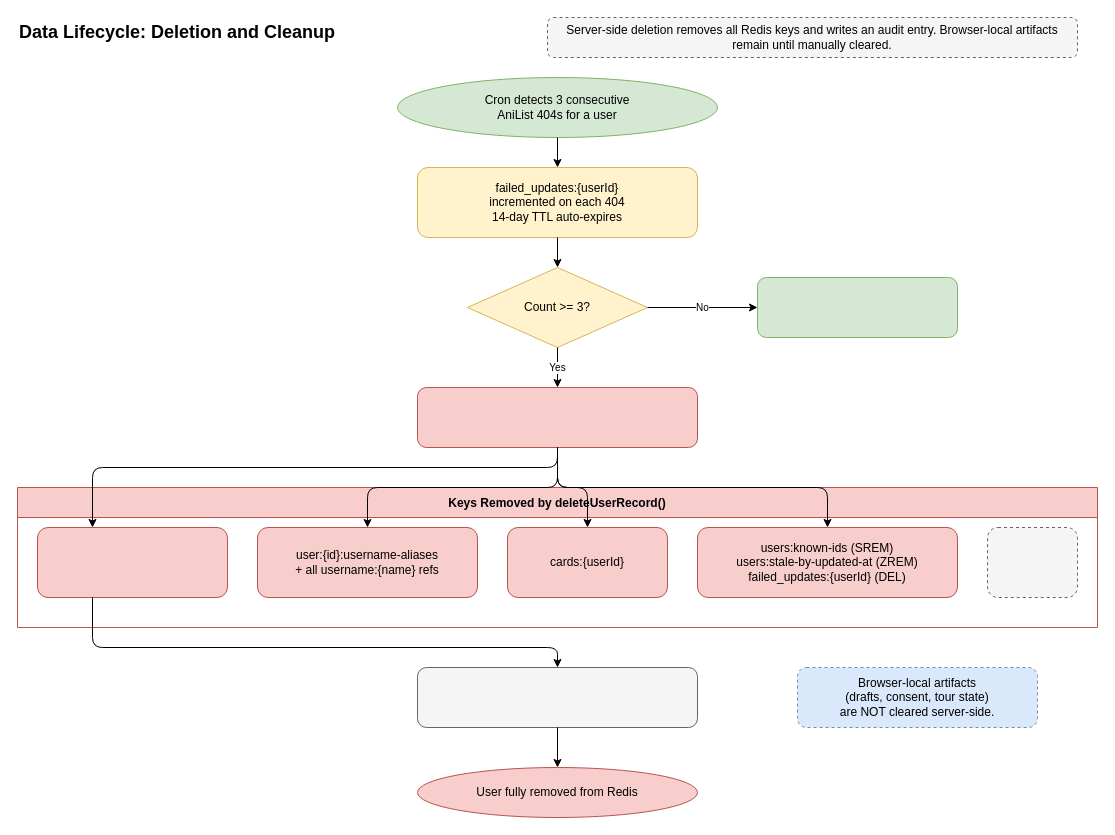
This 1115x835 diagram has some shape labels left out. Each missing label, with the box of its shape:
All split parts user:{id}:{part} user:{id}:commit: (36, 526, 228, 598)
deleteUserRecord() triggerSource: cron_cleanup_404: (416, 386, 698, 448)
Keep user counter expires after 14d: (756, 276, 958, 338)
Legacy user:{id} blob (if still present): (986, 526, 1078, 598)
Lifecycle audit entry action: "delete" triggerSource: cron_cleanup_404: (416, 666, 698, 728)
